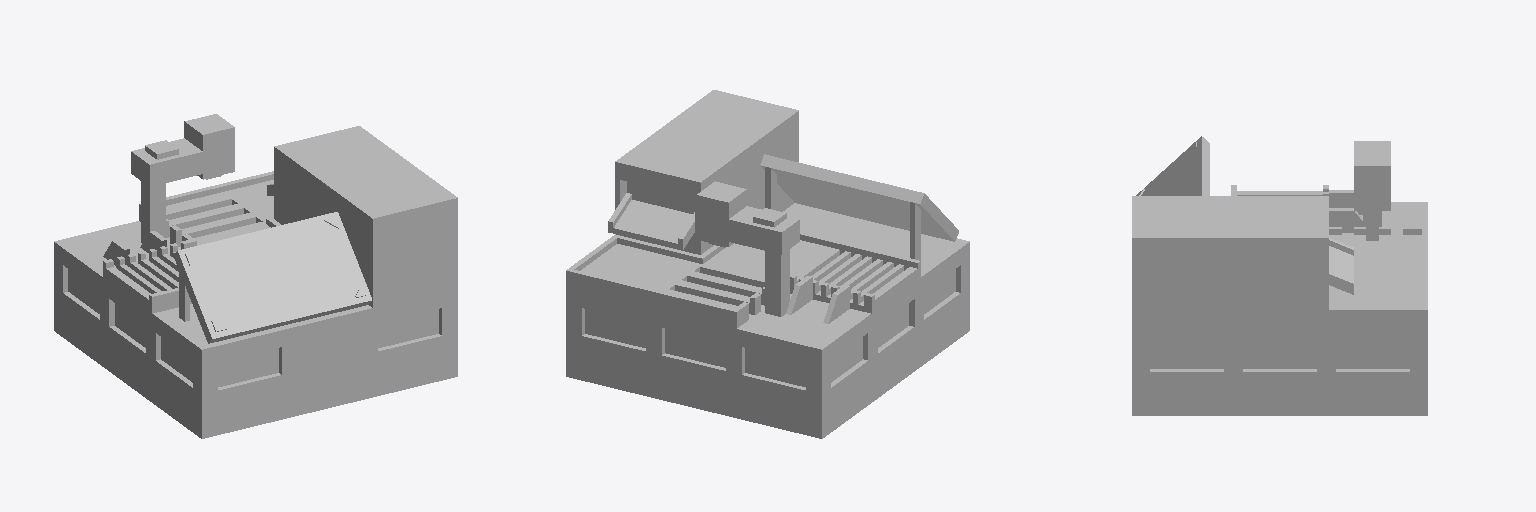
File: auto_workbench_mirrored.obj
3 views of the same model, side by side, from view 1: azimuth 30°, elevation 25°; view 2: azimuth 150°, elevation 25°; view 3: azimuth 270°, elevation 25° (orthographic).
Parts seen in each view (by area): view 1: base, conveyors; view 2: base, conveyors; view 3: base, conveyors.
Part boxes in pixels (bbox=[...]): base: bbox=[54, 114, 457, 438]; conveyors: bbox=[106, 180, 273, 310]; base: bbox=[566, 90, 969, 438]; conveyors: bbox=[581, 240, 917, 313]; base: bbox=[1132, 136, 1427, 415]; conveyors: bbox=[1237, 191, 1421, 307].
Bounding box in the file's own units: 3 × 2.19 × 3.